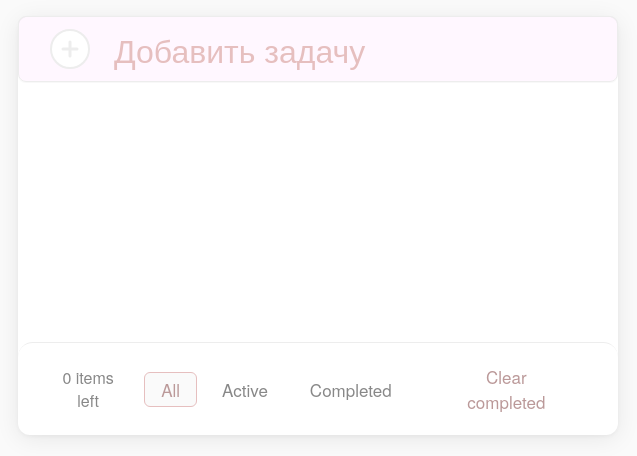
it: TodoMainComponent › отображение сообщения о пустом списке
This screenshot has width=637, height=456.
Click the button "Completed": (351, 389) [293,372,409,406]
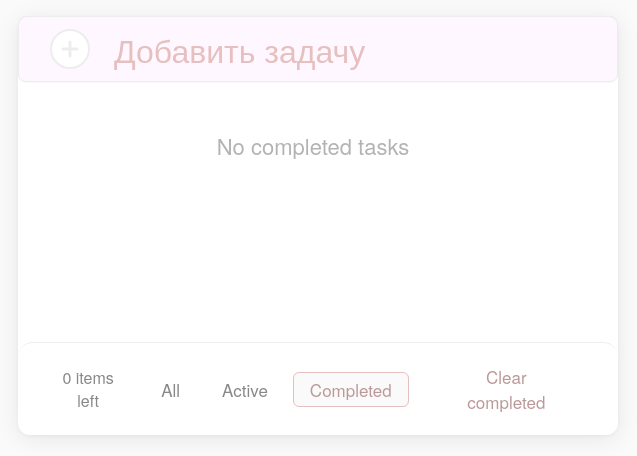
Expected: the text "No completed tasks" is shown, [217,130,409,161]
Click the button "Active": (245, 389) [205,372,285,406]
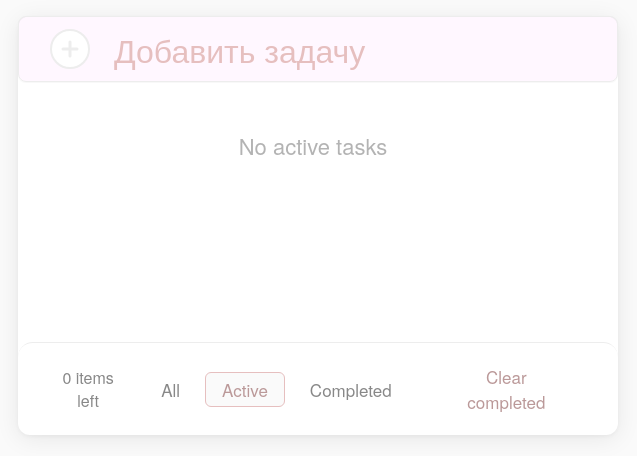
Expected: the text "No active tasks" is shown, [239,130,387,161]
